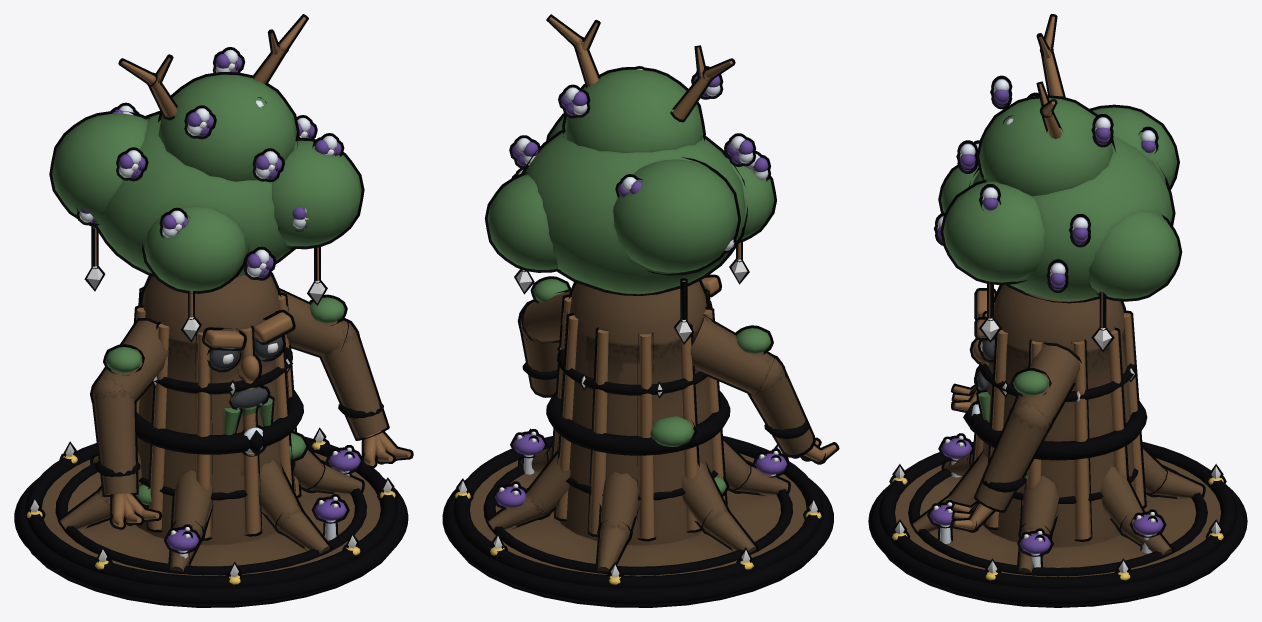
The model's file is treant_guard_s5.fbx.
The picture shows the model from 3 angles, left to right: view 1: azimuth 30°, elevation 25°; view 2: azimuth 150°, elevation 25°; view 3: azimuth 270°, elevation 25°; orthographic projection. The views are drawn at different scales.
Visible parts, largest first — view 1: treant_guard_s5; view 2: treant_guard_s5; view 3: treant_guard_s5.
Part boxes in pixels (bbox=[...]): treant_guard_s5: bbox=[14, 14, 413, 607]; treant_guard_s5: bbox=[442, 14, 839, 607]; treant_guard_s5: bbox=[868, 14, 1247, 607].
Bounding box in the file's own units: 1.68 × 2.32 × 1.68.
Materials: 2 (1 with a texture image).
